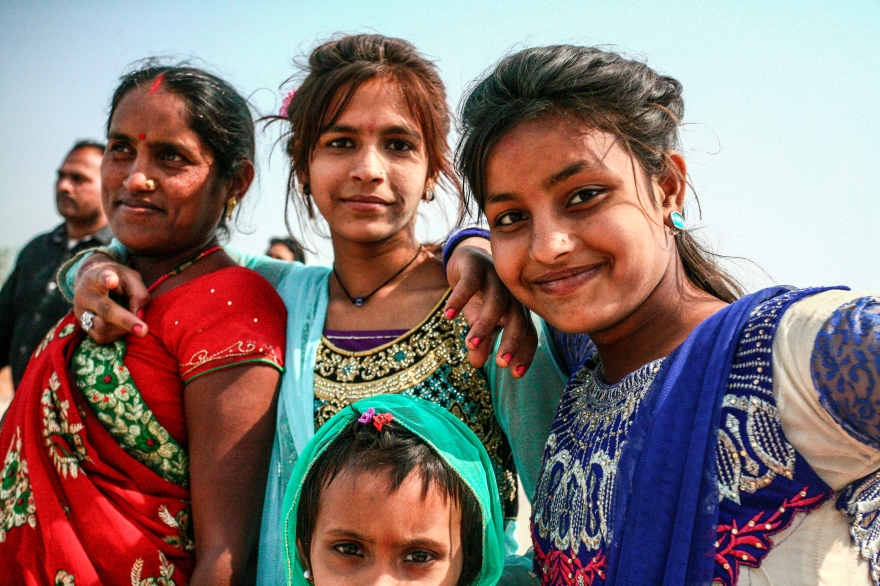human: (453, 40, 880, 586), (233, 30, 578, 586), (1, 53, 295, 586), (273, 383, 516, 586)
